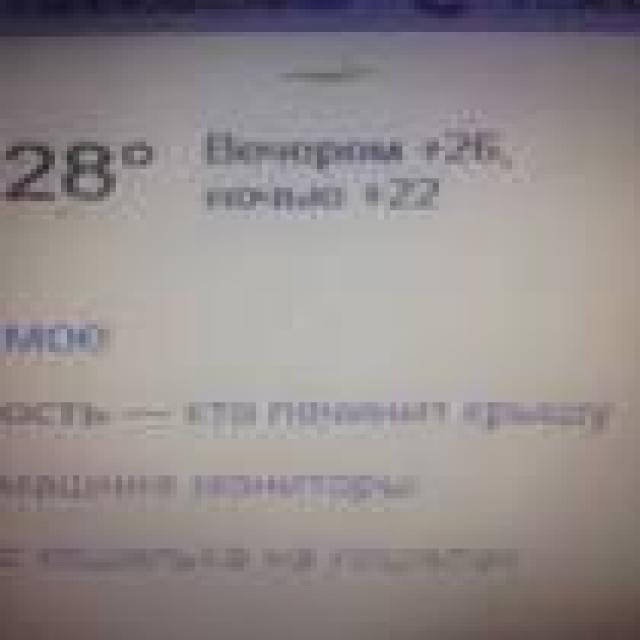dead_pixel: (270, 48, 369, 86)
